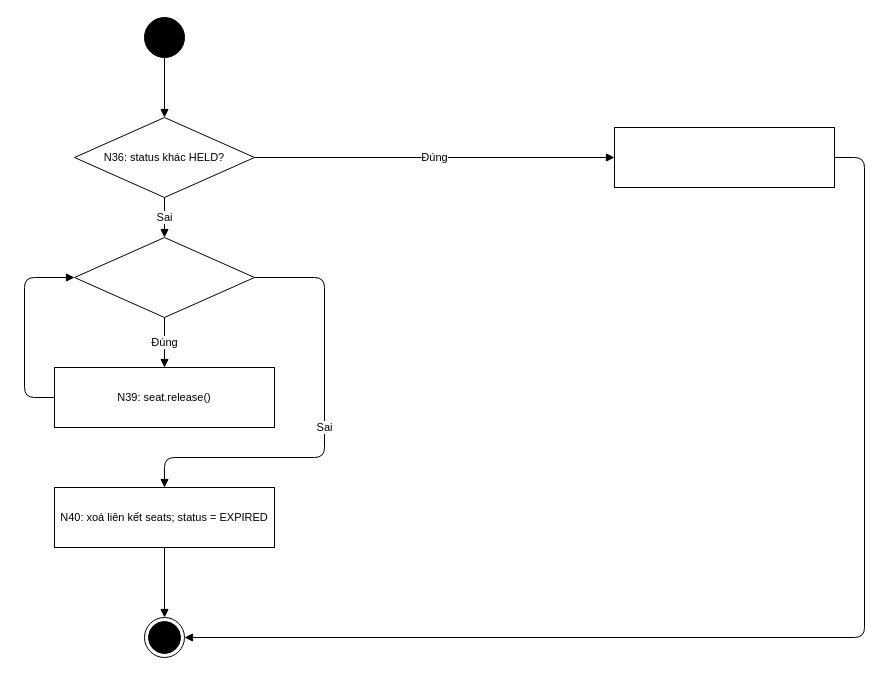
The diagram is 890 pixels wide and 675 high, and some of its shapes have lost their labels. The centre of each missing label's shape, as x and y in pixels:
N37: kết thúc, bỏ qua: the point at 724,157
N38: còn Seat chưa trả?: the point at 164,277
